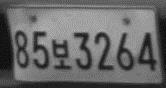2: (94, 31, 115, 71)
3: (73, 31, 92, 69)
4: (137, 31, 157, 71)
5: (32, 30, 49, 69)
6: (116, 31, 134, 71)
8: (14, 29, 29, 68)
보: (51, 38, 72, 70)
